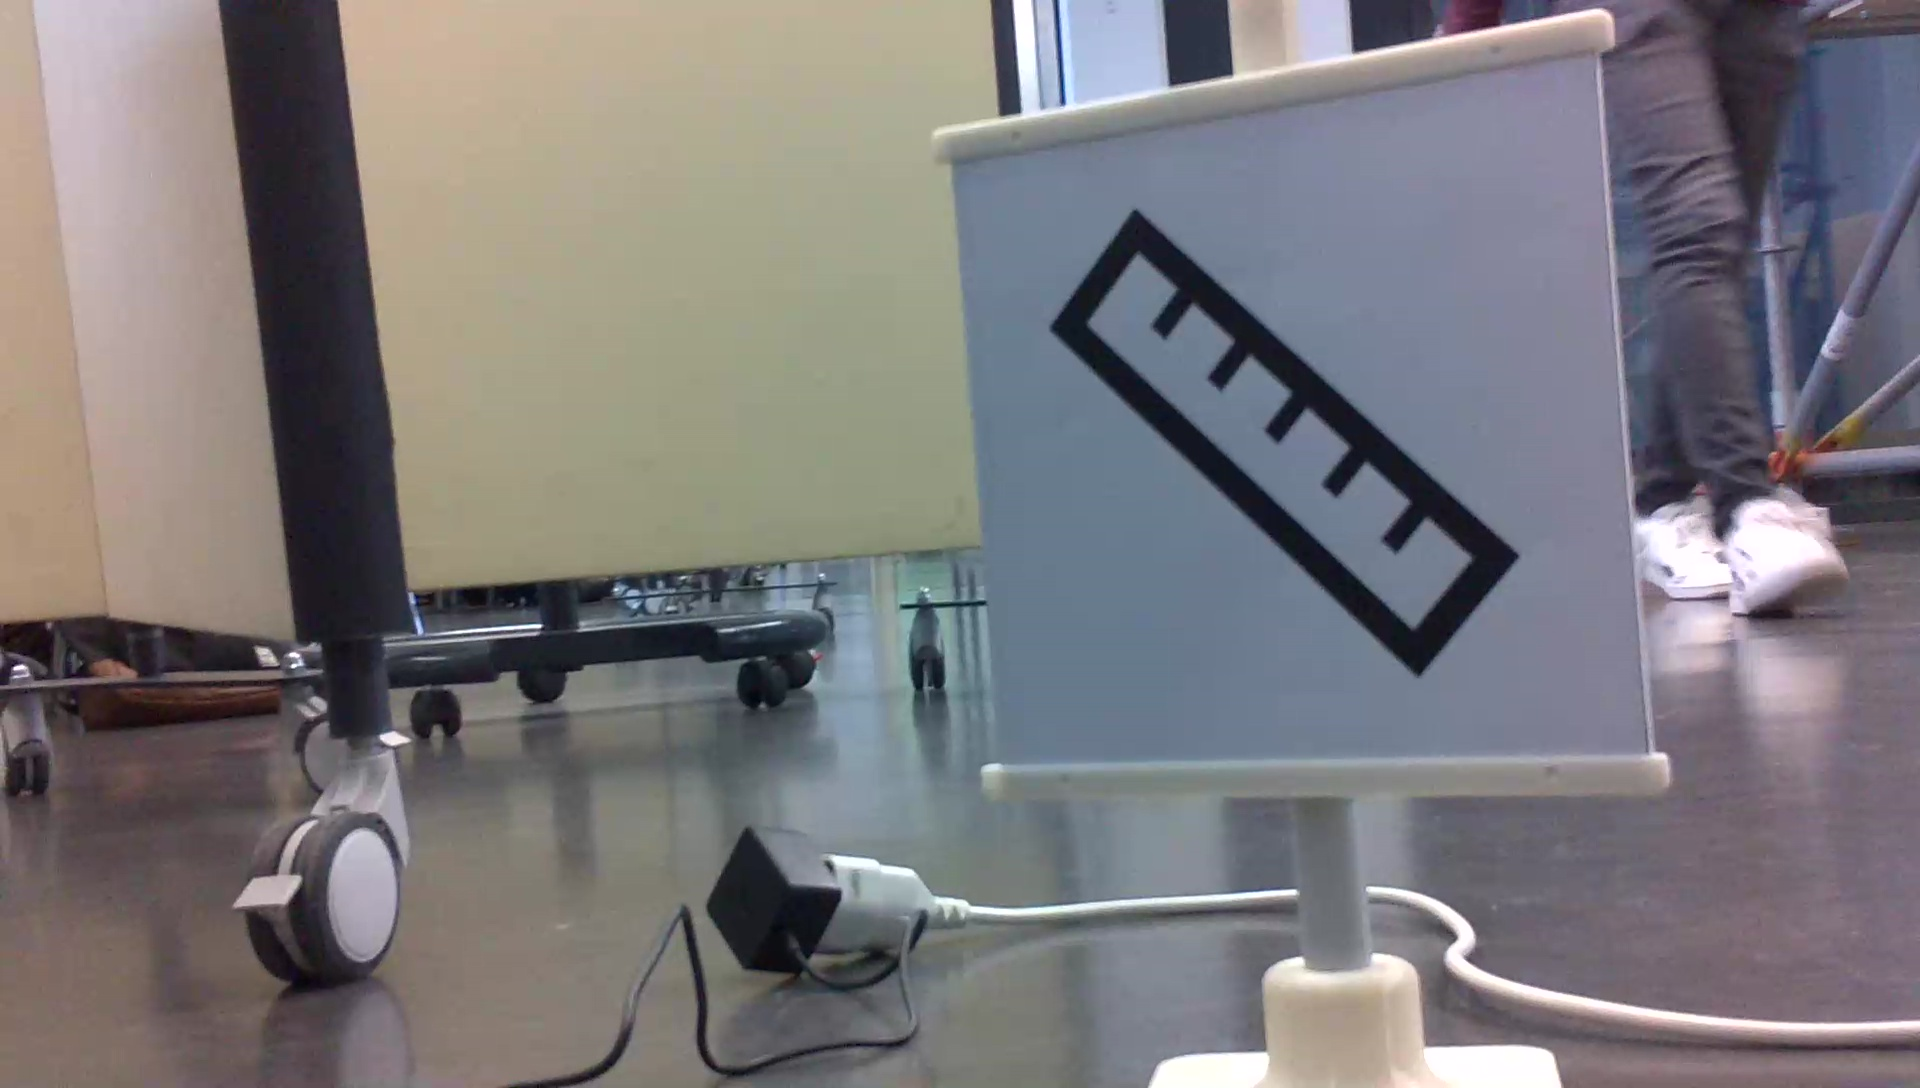ruler: (1051, 196, 1516, 686)
